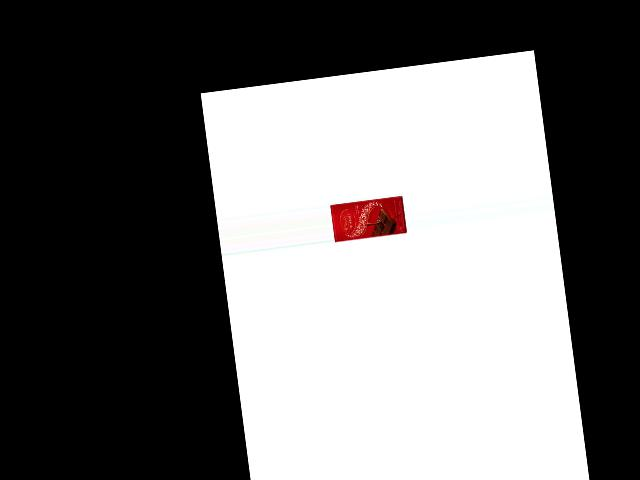chocolate: (330, 194, 406, 246)
